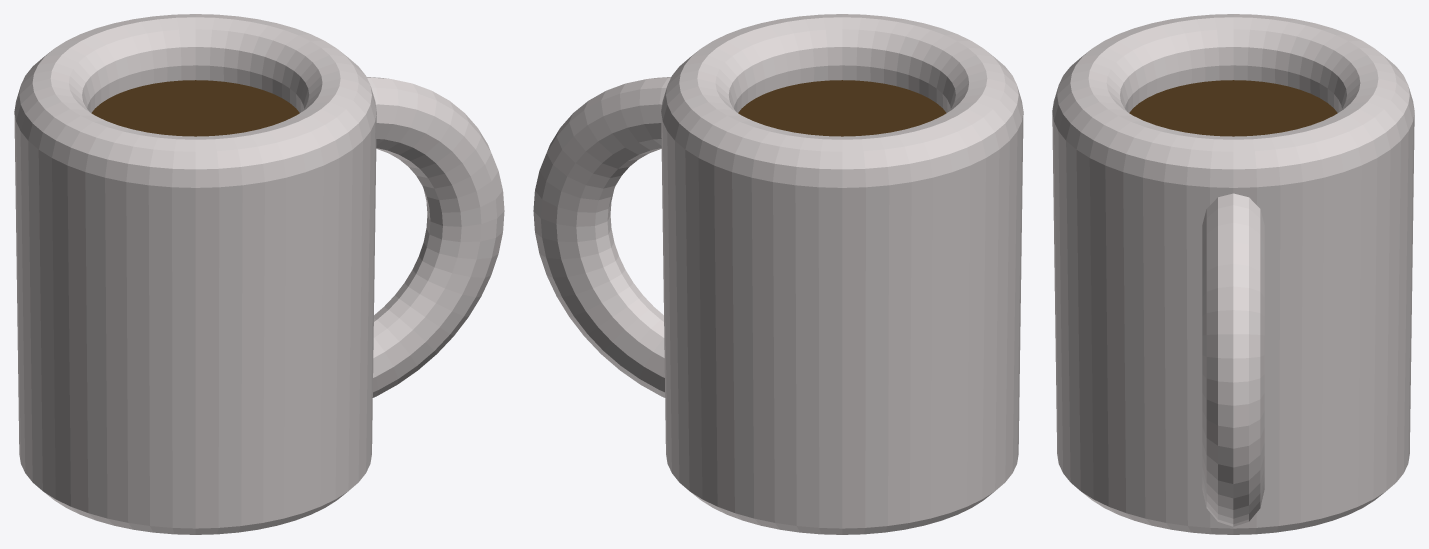
File: Mug.fbx
3 renders of one model, left to right at view 1: azimuth 30°, elevation 25°; view 2: azimuth 150°, elevation 25°; view 3: azimuth 270°, elevation 25°, orthographic.
Parts seen in each view (by area): view 1: Torus, Torus.001, Cylinder.001; view 2: Torus, Torus.001, Cylinder.001; view 3: Torus, Torus.001, Cylinder.001.
Boxes of the visible parts, x1,y1,x2,y2 form: Torus: (14, 14, 376, 534); Torus.001: (367, 77, 504, 397); Cylinder.001: (91, 80, 299, 136); Torus: (661, 14, 1023, 534); Torus.001: (533, 77, 670, 397); Cylinder.001: (738, 80, 946, 136); Torus: (1052, 14, 1414, 534); Torus.001: (1202, 193, 1264, 526); Cylinder.001: (1129, 80, 1337, 136).
Size of the model in its own units: 224 by 181 by 152.
